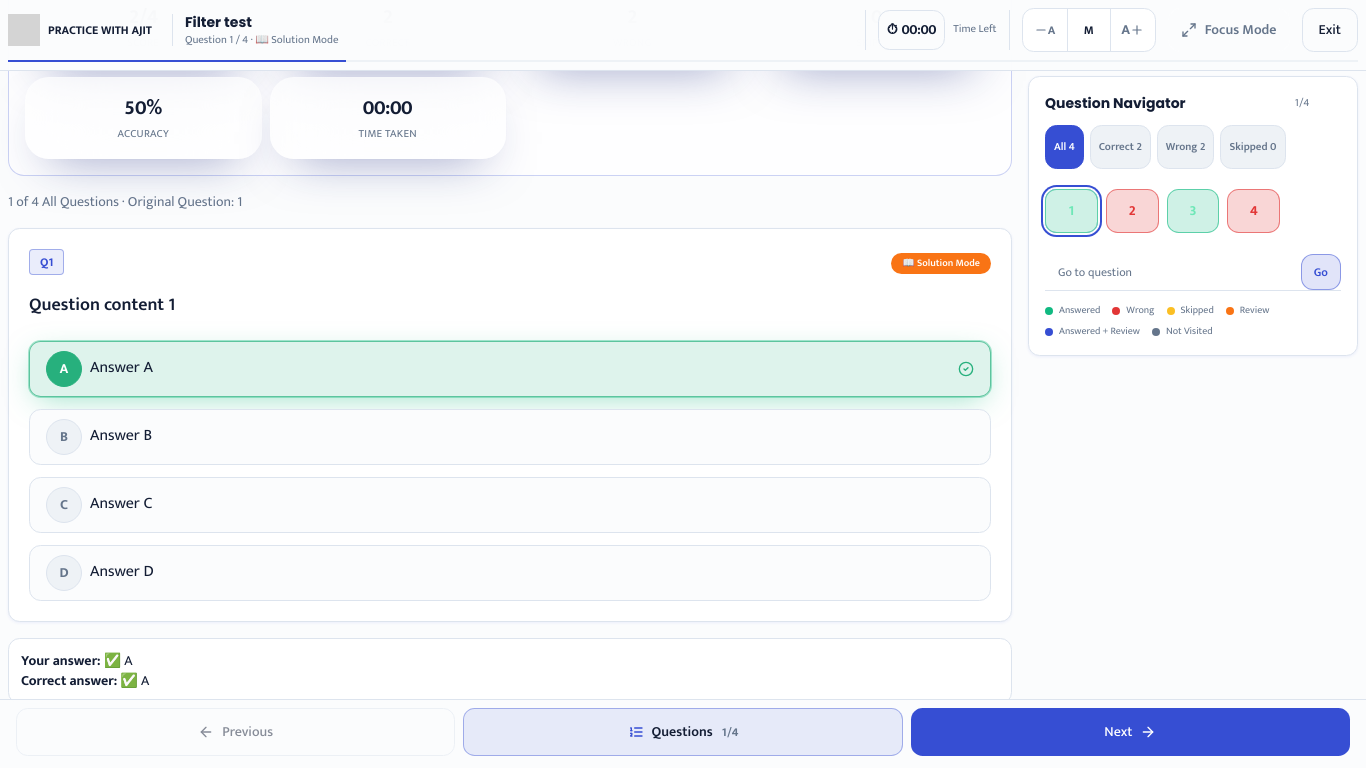
Test: Solution Mode navigation › opens first matching question, restricts next/previous and hides content for an empty filter
Earlier steps of the test are not shown.
(page scrolled)
Click the button "Wrong 2" at (1186, 147), box [1157,125,1214,169]
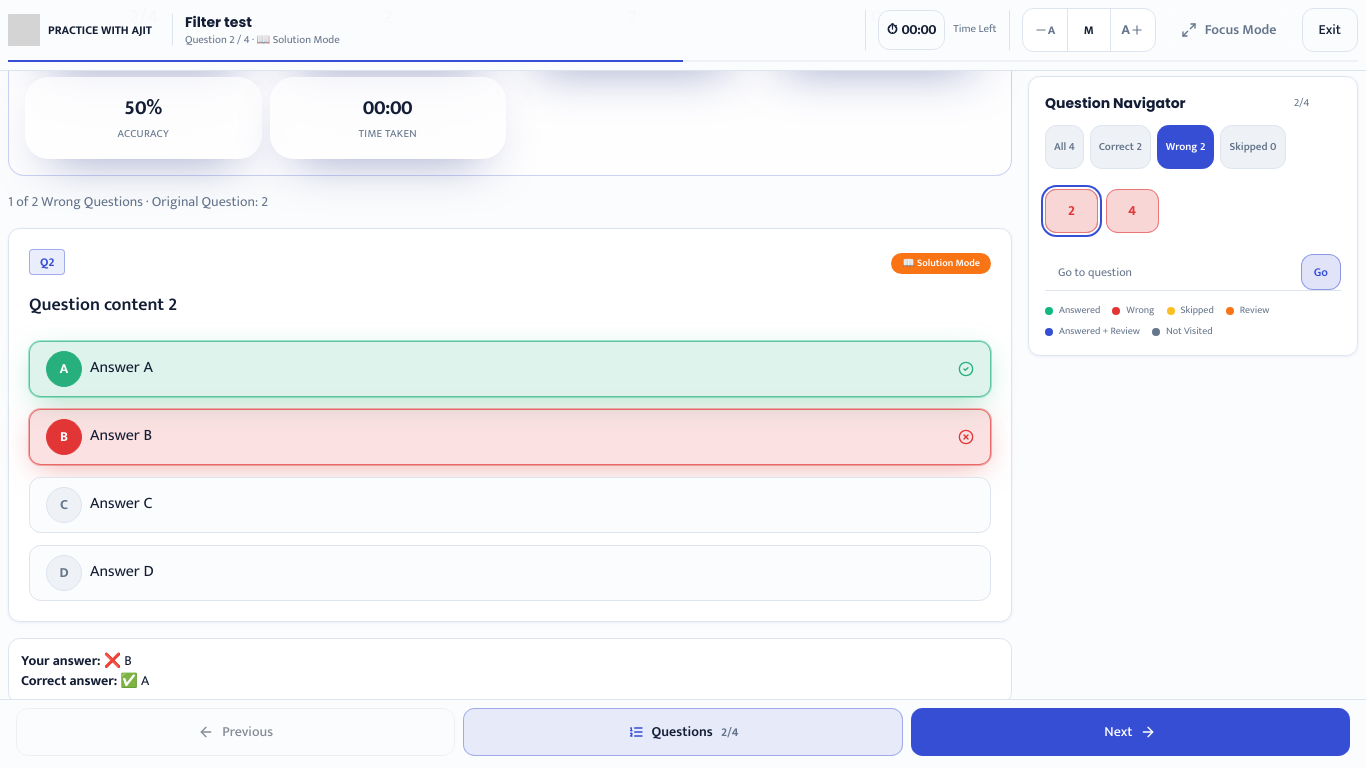
Check: the text "1 of 2 Wrong Questions · Original Question: 2" is shown, box [8,190,268,213]
Click the button "Next" at (1130, 732), box [911,708,1350,756]
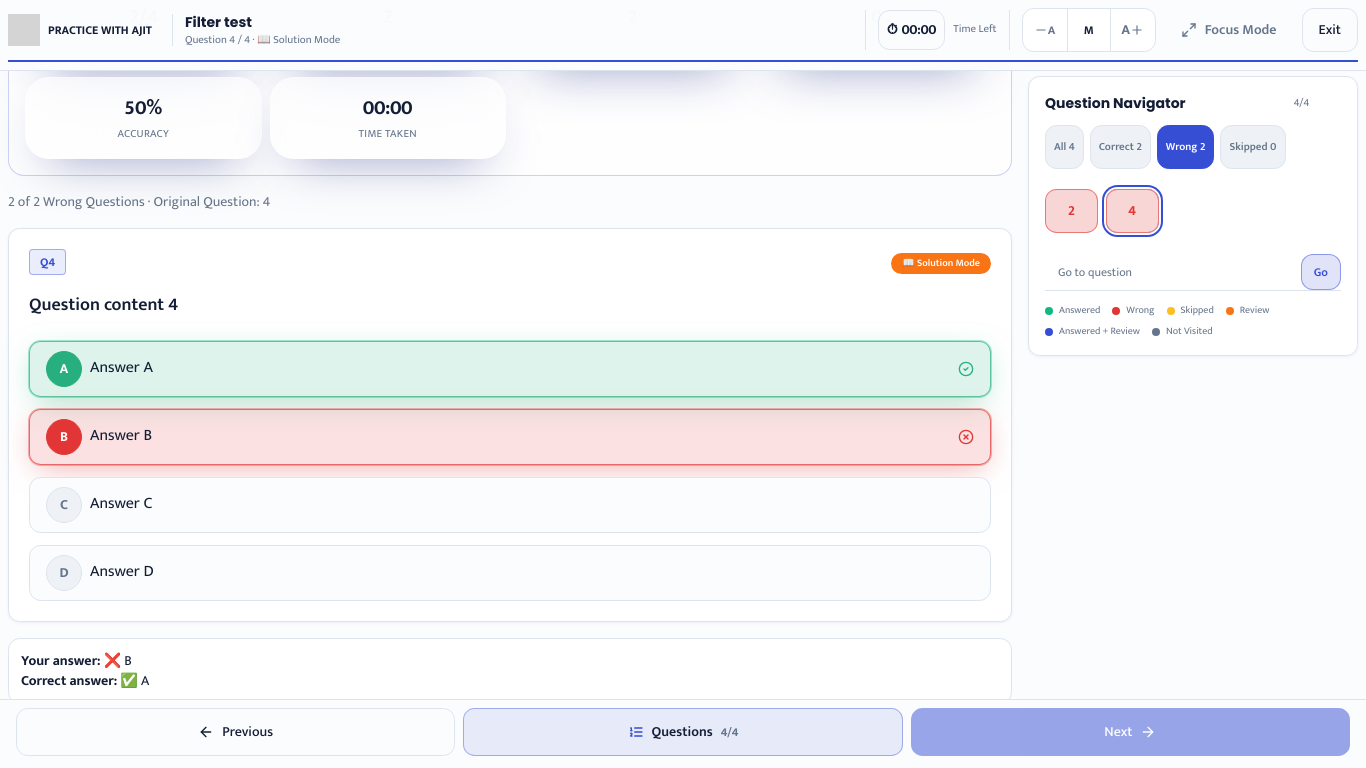
Check: the text "2 of 2 Wrong Questions · Original Question: 4" is shown, box [8,190,270,213]
Check: the button "Next" is disabled, box [911,708,1350,756]
Press ArrowLeft
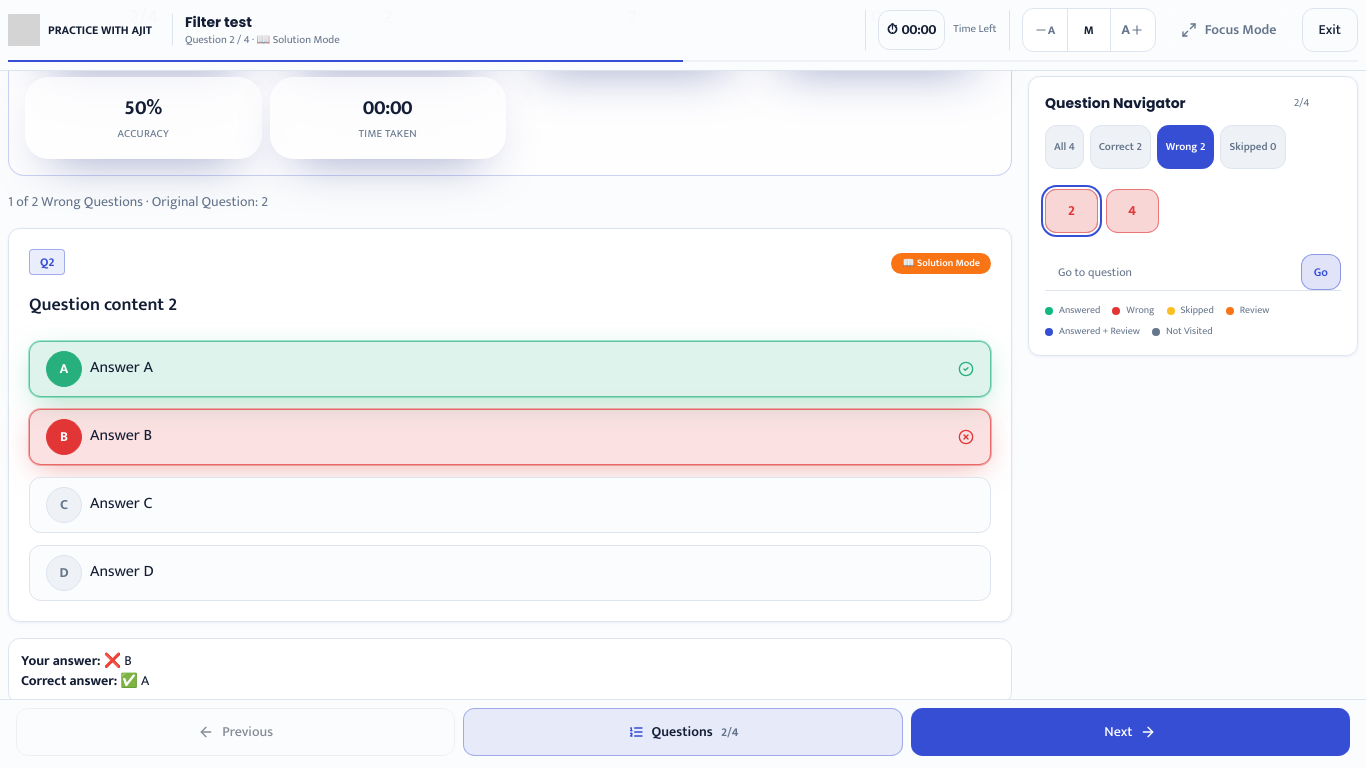
Check: the text "1 of 2 Wrong Questions · Original Question: 2" is shown, box [8,190,268,213]
Click the button "Correct 2" at (1120, 147), box [1090,125,1151,169]
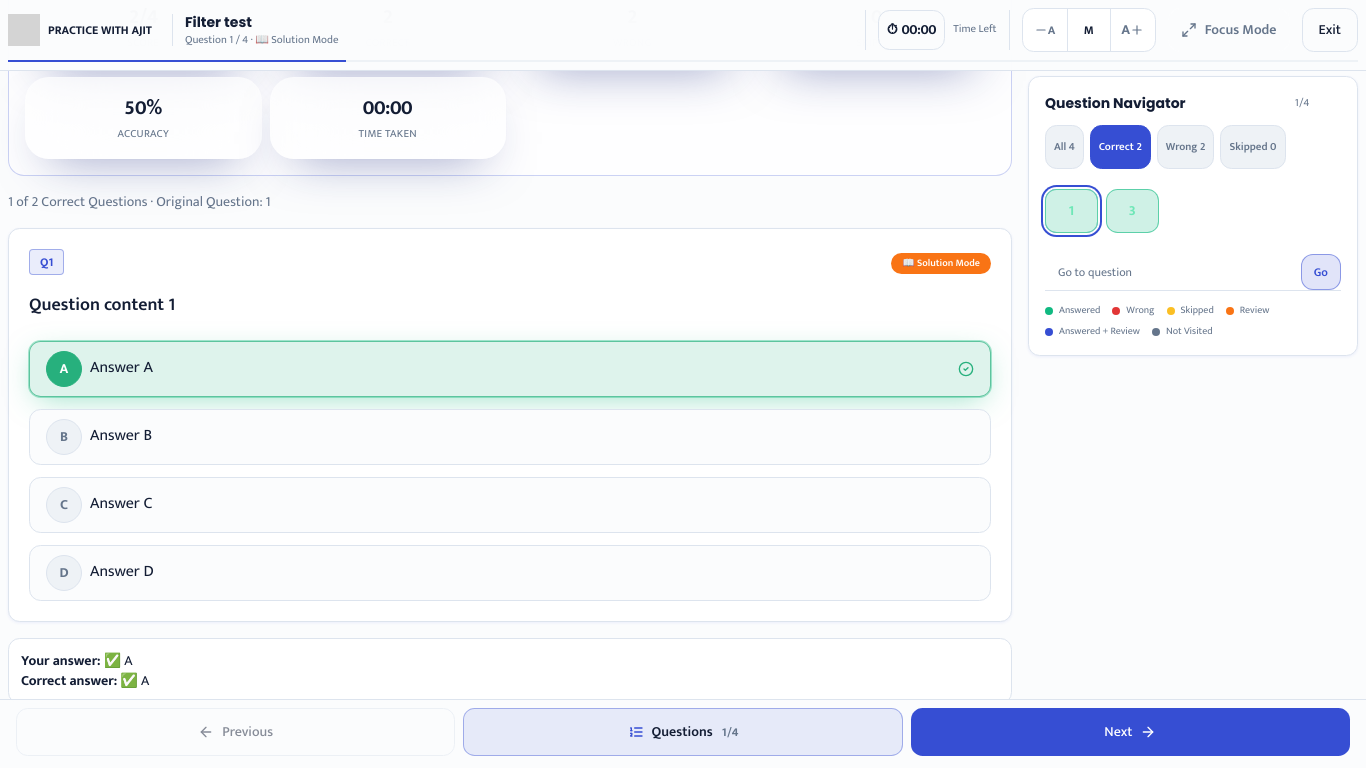
Check: the text "1 of 2 Correct Questions · Original Question: 1" is shown, box [8,190,271,213]
Click the button "Skipped 0" at (1253, 147), box [1220,125,1286,169]
(page scrolled)
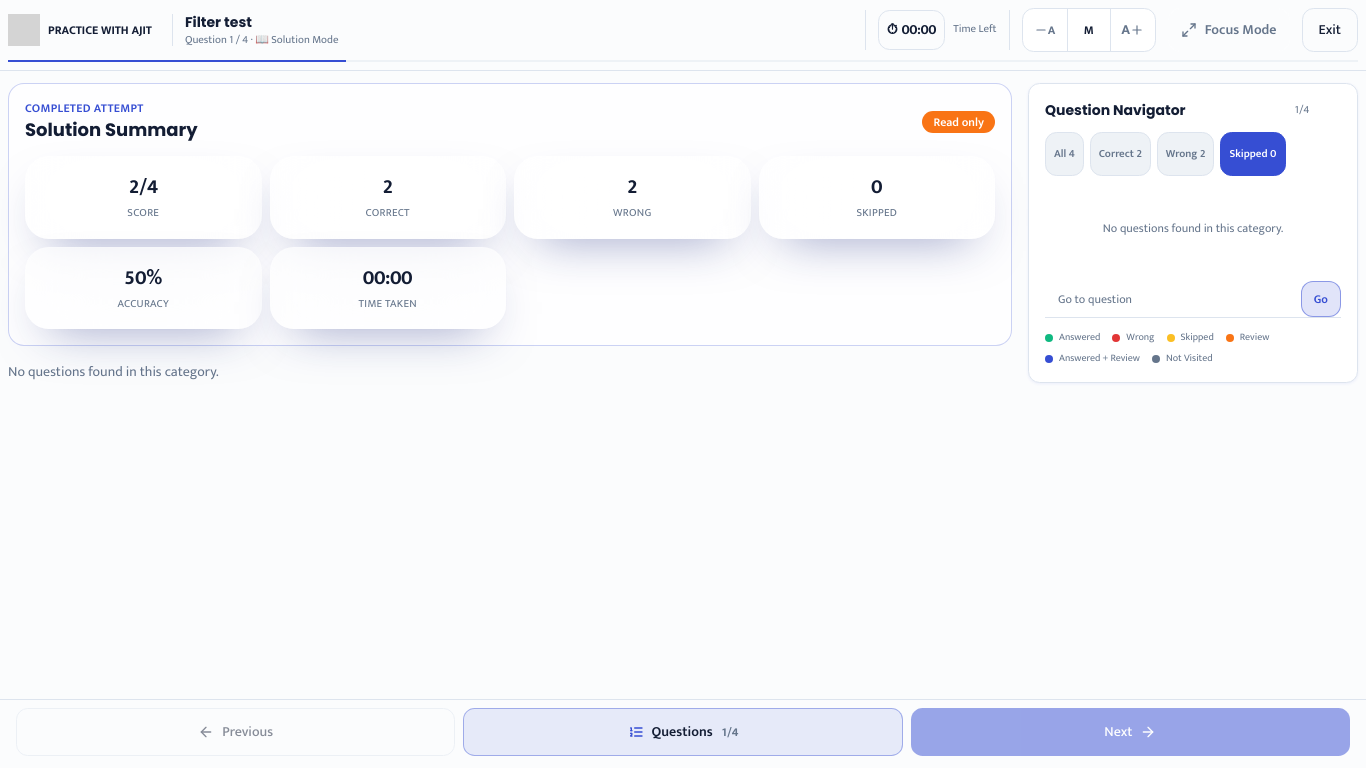
Check: the text "No questions found in this category." is shown 2 times, box [8,360,219,383]; [1103,218,1283,238]
Check: the text "Question content 1" is gone
Check: the button "Next" is disabled, box [911,708,1350,756]
Click the button "All 4" at (1064, 154), box [1045,132,1084,176]
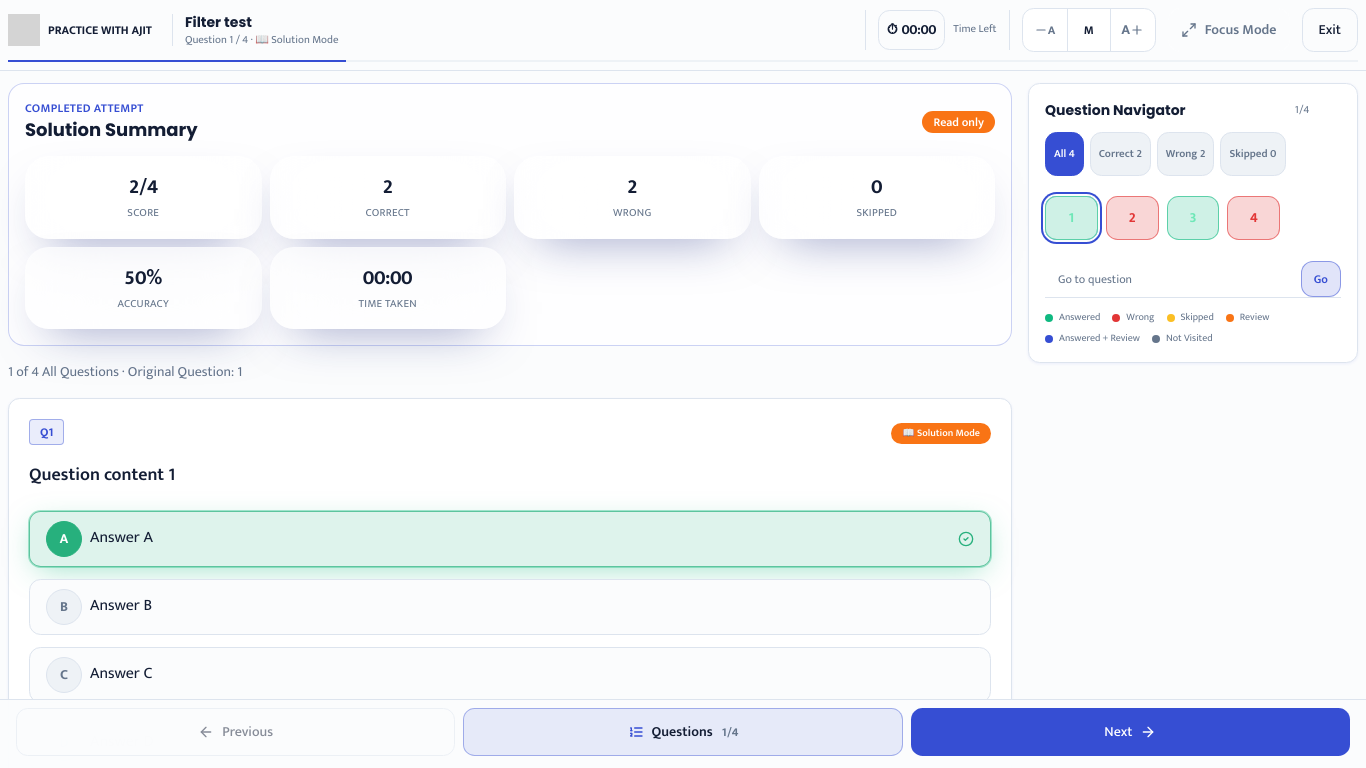
Check: the text "Question content 1" is shown, box [29,460,175,490]
Check: the number of buttons "1" is 4, box [1045,196,1098,240]; [1106,196,1159,240]; [1167,196,1219,240]; [1227,196,1280,240]
